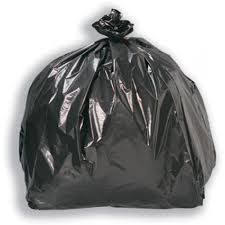Trash: (16, 4, 219, 216)
